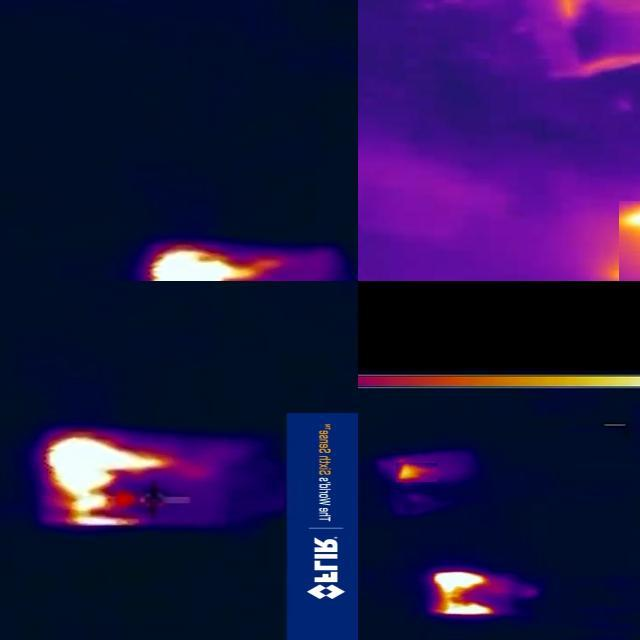fire: (45, 432, 194, 528), (142, 244, 269, 282), (431, 570, 499, 618), (397, 463, 439, 482)
